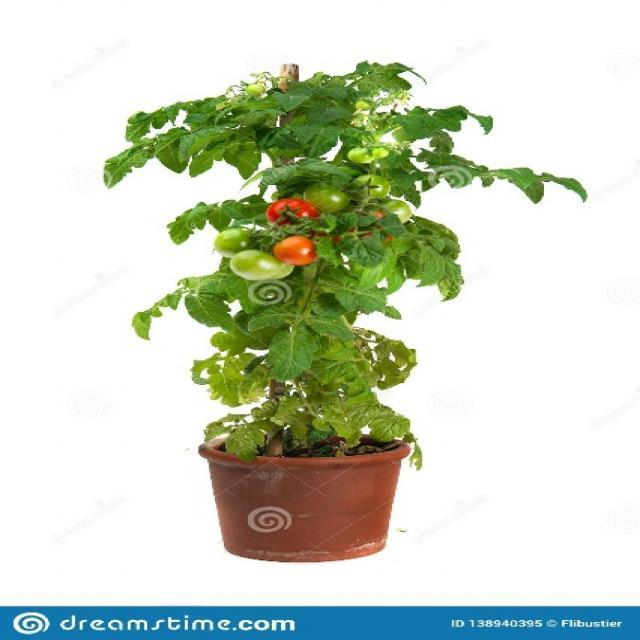tomato: (104, 62, 586, 462)
